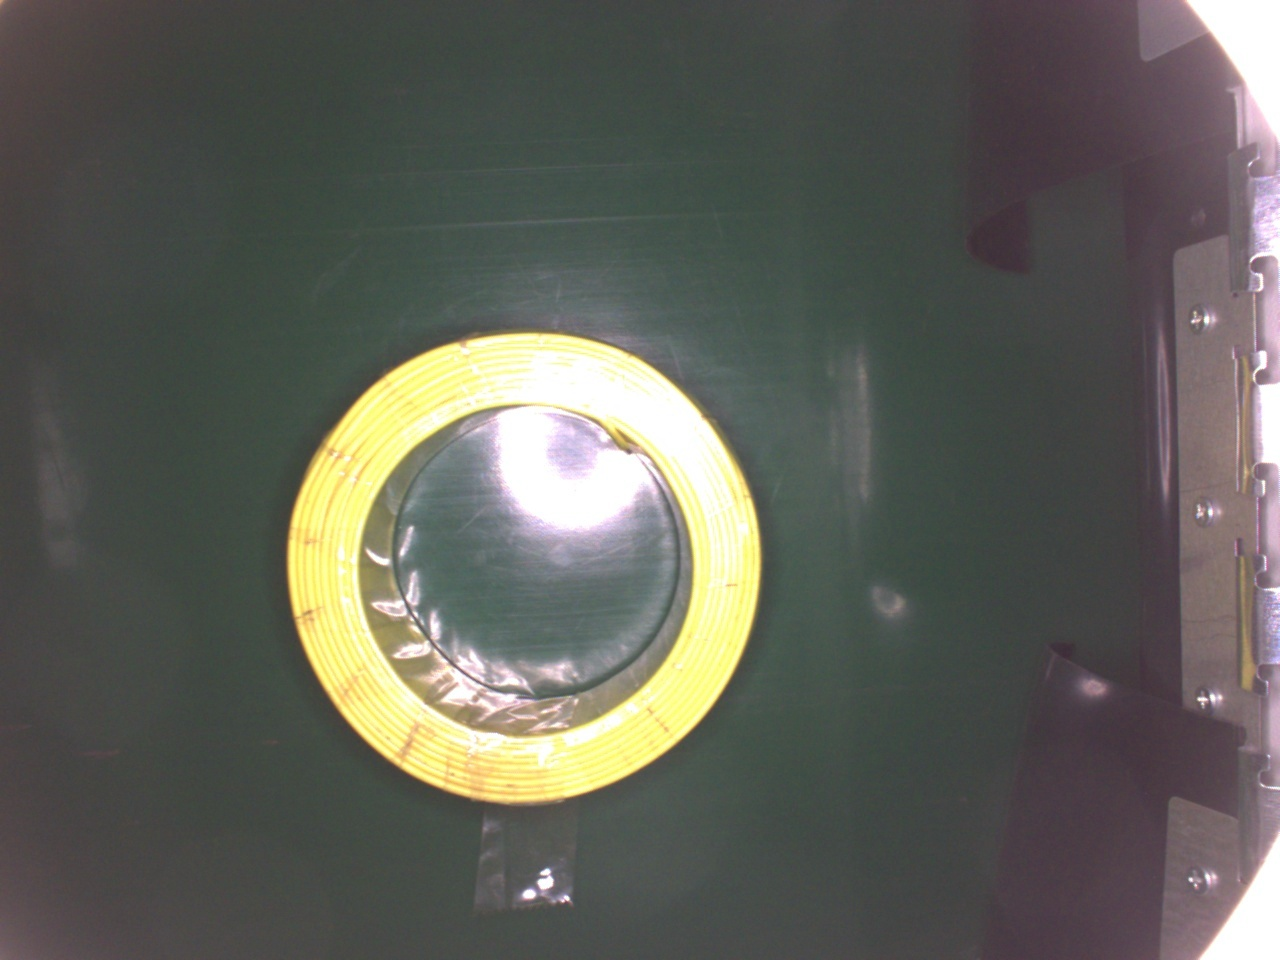yellow: (283, 322, 767, 816)
